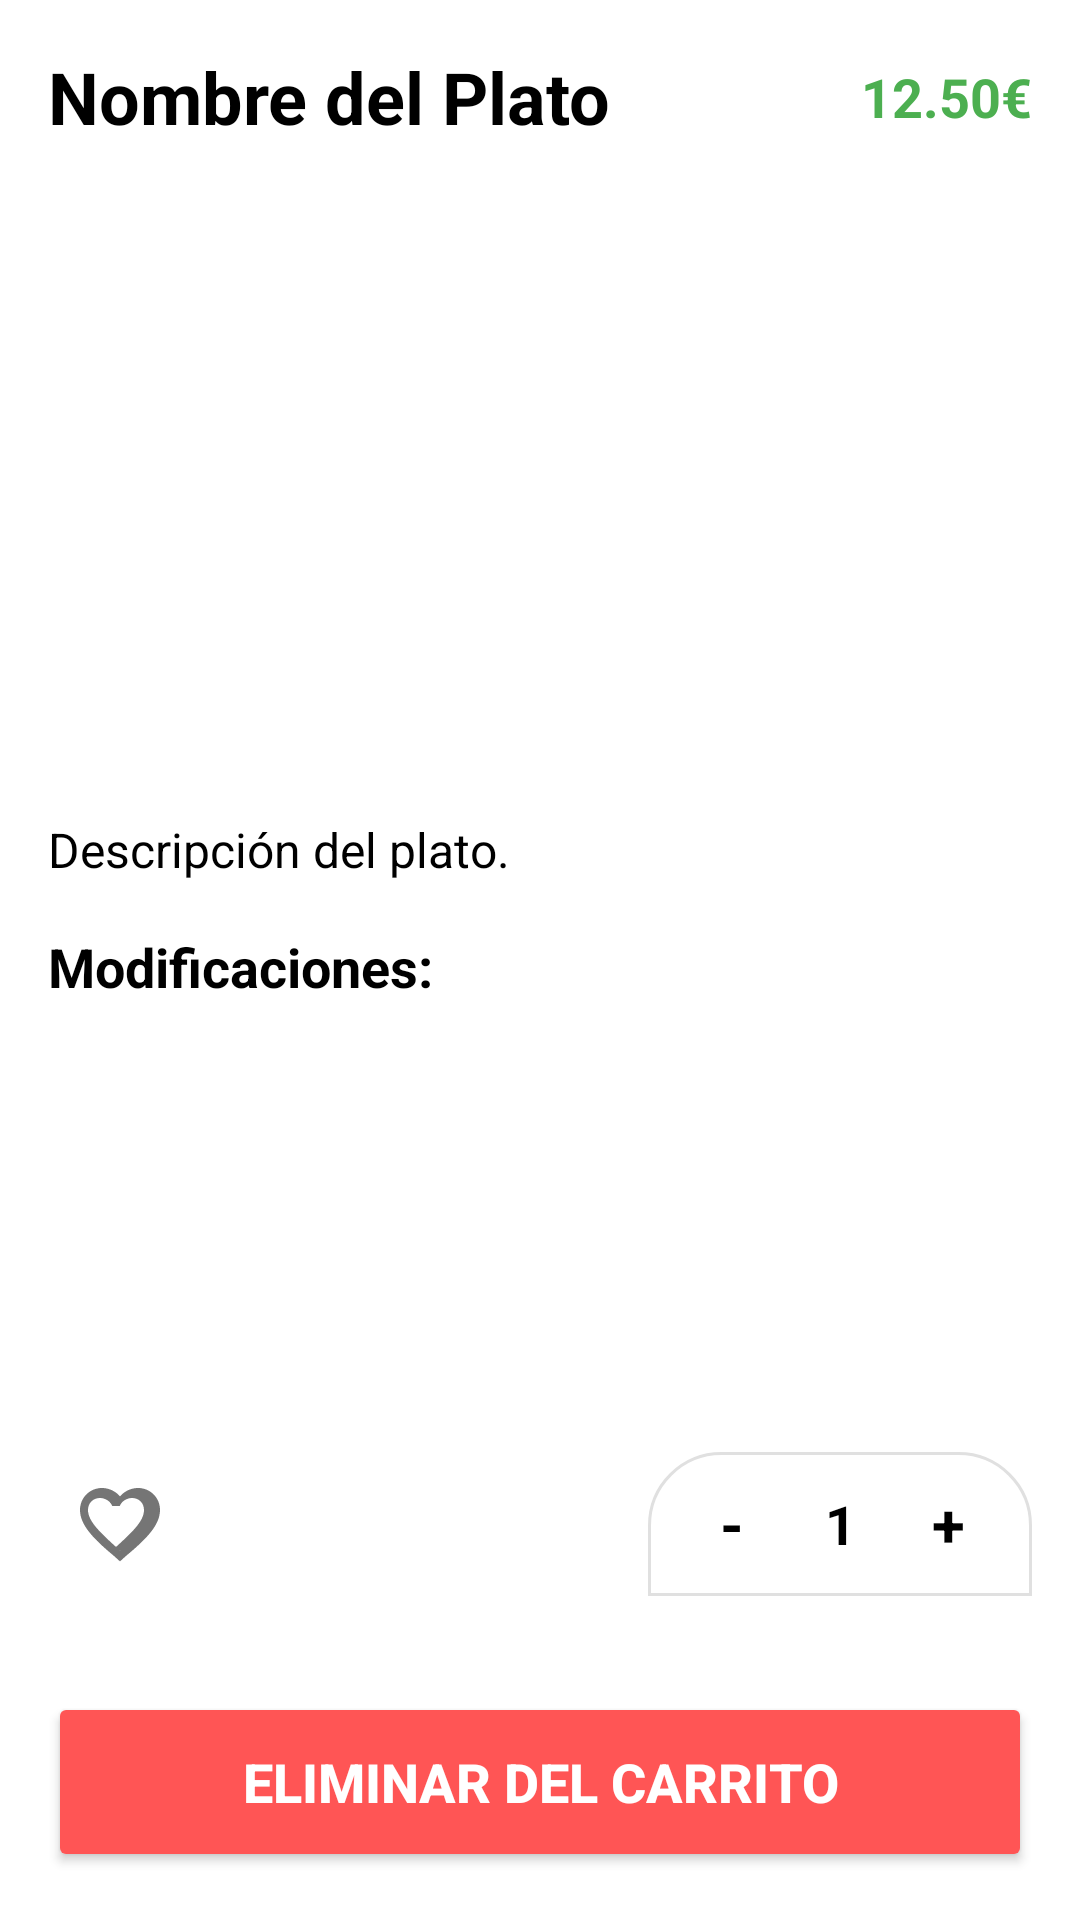

Named icons in this screenshot (1080×1920) and their bounding boxes, (x1=x1, y1=y1, x2=x2, y2=y2):
favorite border: (x1=80, y1=1488, x2=160, y2=1561)
